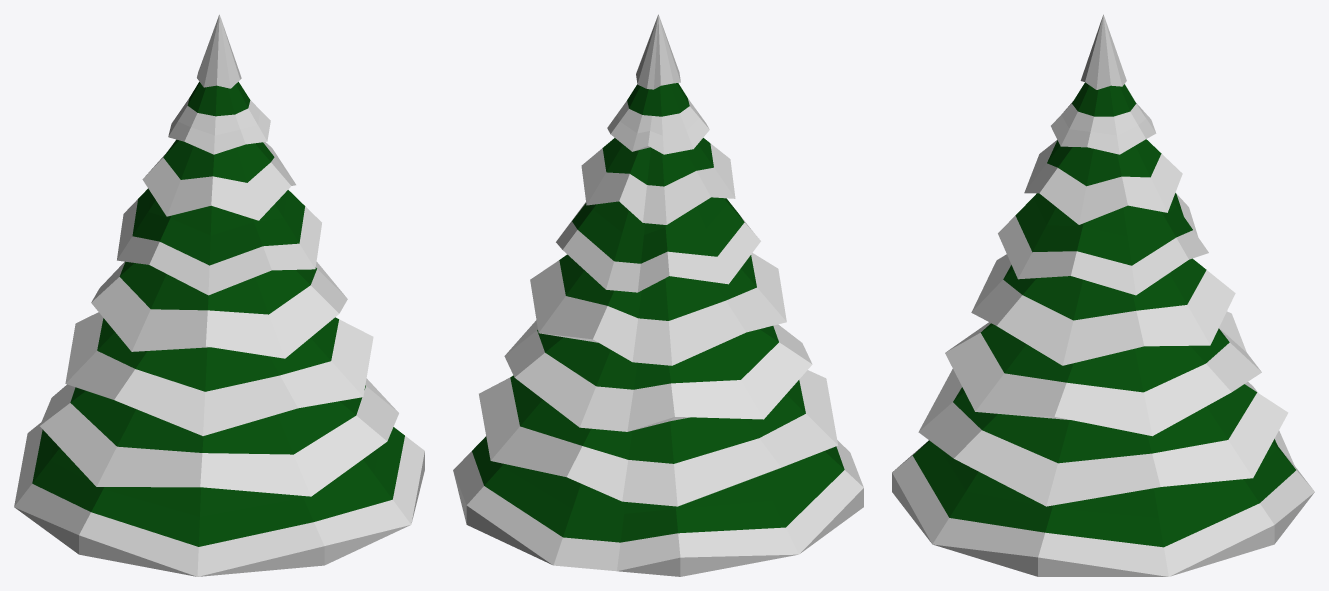
The model's file is treeeeeeeeeeeee.fbx.
3 renders of one model, left to right at view 1: azimuth 30°, elevation 25°; view 2: azimuth 150°, elevation 25°; view 3: azimuth 270°, elevation 25°, orthographic.
Parts seen in each view (by area): view 1: Cylinder.087; view 2: Cylinder.087; view 3: Cylinder.087.
Boxes of the visible parts, x1,y1,x2,y2 form: Cylinder.087: [14, 14, 424, 576]; Cylinder.087: [453, 14, 863, 576]; Cylinder.087: [892, 14, 1314, 576].
Size of the model in its own units: 321 by 421 by 337.
